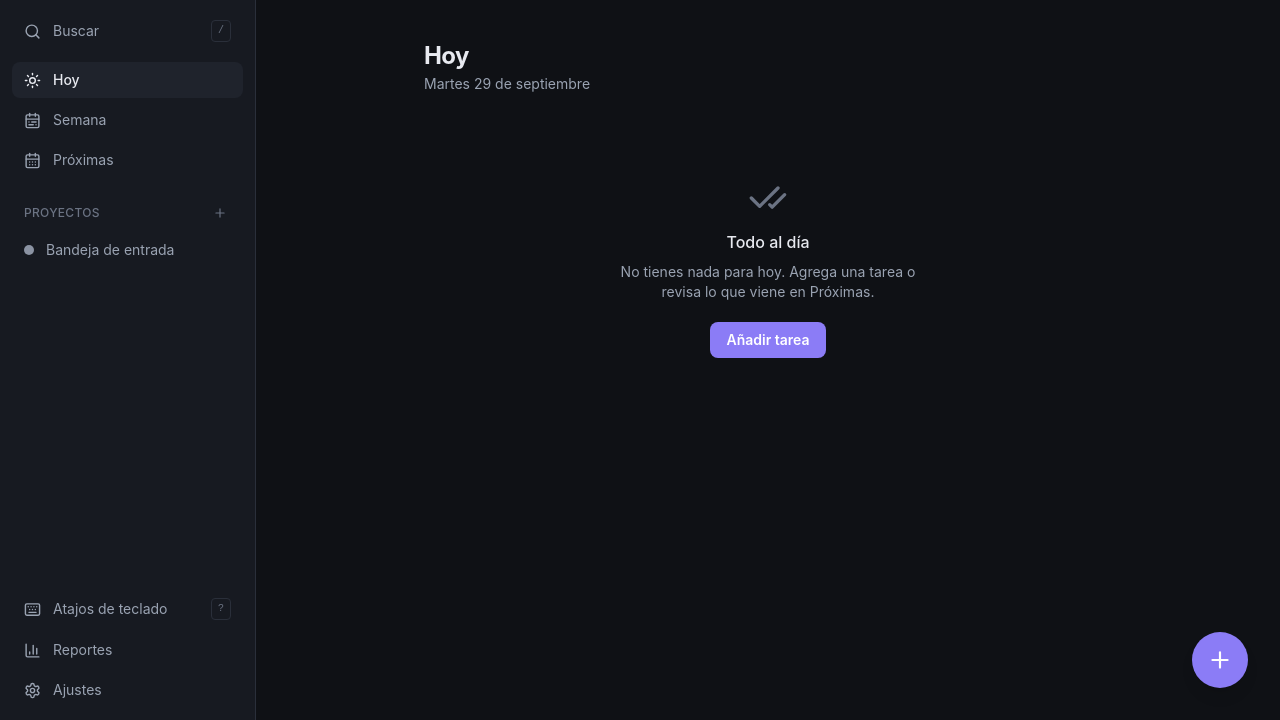
Test: ayuda de atajos › se abre desde el sidebar y lista los atajos
Click the button "Atajos de teclado ?".
click(128, 609)  # box [12, 590, 243, 628]
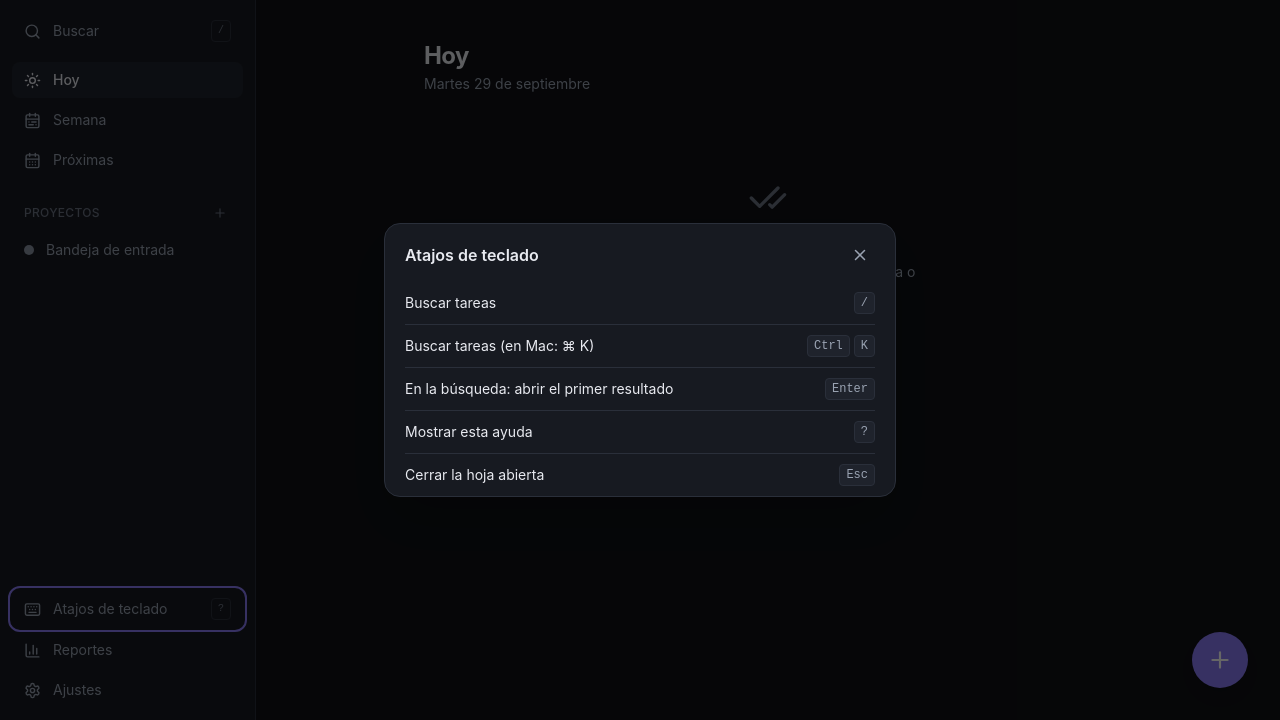
Now the text "Buscar tareas" is shown, box [405, 293, 496, 313]
Now the text "Mostrar esta ayuda" is shown, box [405, 422, 533, 442]
